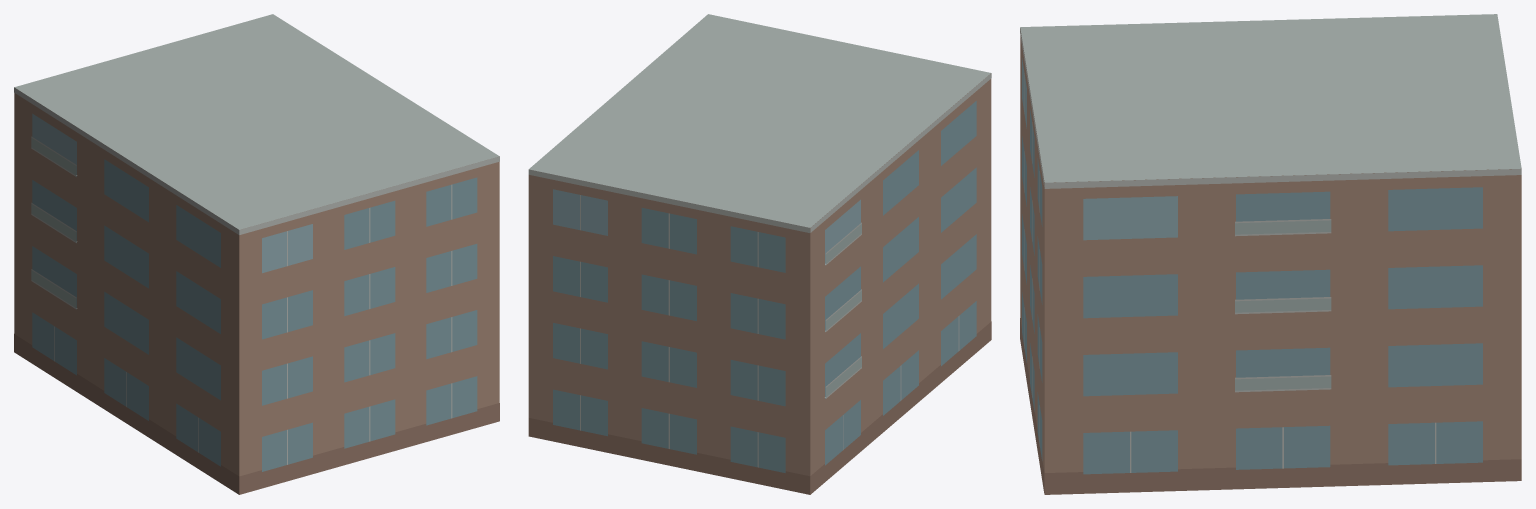
Rendered from survey-upis-32804732.glb.
The picture shows the model from 3 angles, left to right: view 1: azimuth 30°, elevation 25°; view 2: azimuth 150°, elevation 25°; view 3: azimuth 270°, elevation 25°; orthographic projection. The views are drawn at different scales.
Parts seen in each view (by area): view 1: survey-upis-32804732.tmp; view 2: survey-upis-32804732.tmp; view 3: survey-upis-32804732.tmp.
Part boxes in pixels (x1,y1,x2,y2): survey-upis-32804732.tmp: [14, 14, 499, 494]; survey-upis-32804732.tmp: [528, 14, 991, 494]; survey-upis-32804732.tmp: [1020, 14, 1521, 494].
Size of the model in its own units: 14.15 by 12.2 by 17.77.
